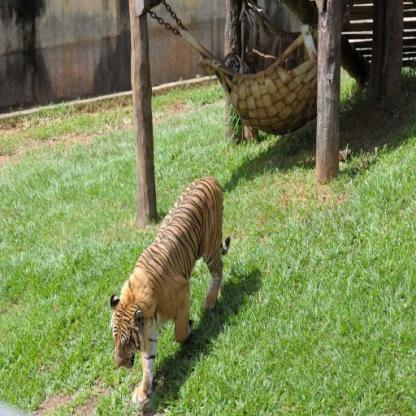Tiger: (76, 163, 245, 413)
